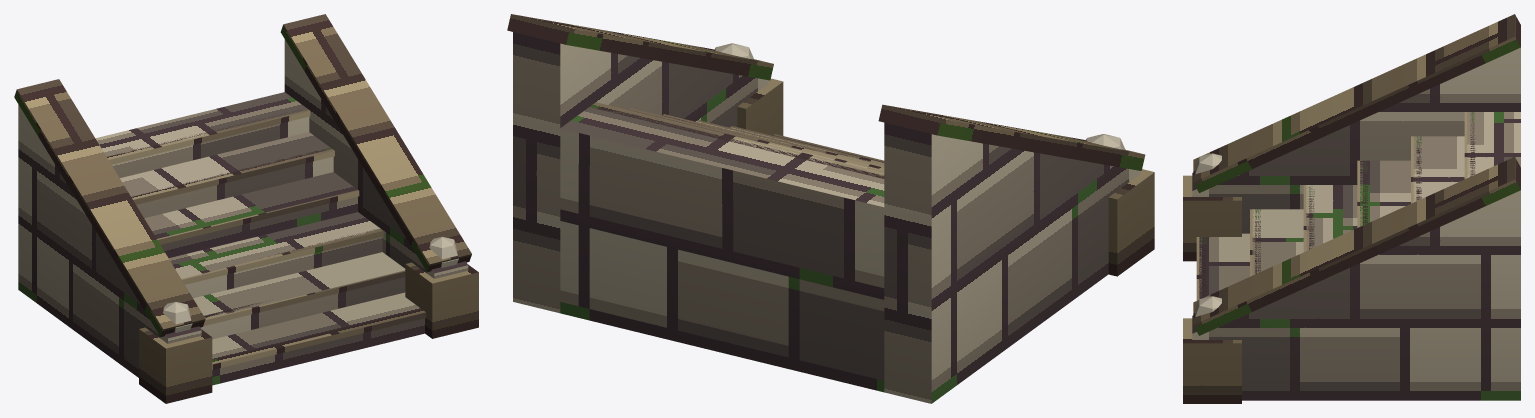
The model's file is scene_stair_f3.glb.
3 views of the same model, side by side, from view 1: azimuth 30°, elevation 25°; view 2: azimuth 150°, elevation 25°; view 3: azimuth 270°, elevation 25° (orthographic). The views are drawn at different scales.
Visible parts, largest first — view 1: scene_stair_f3; view 2: scene_stair_f3; view 3: scene_stair_f3.
Boxes of the visible parts, left/top/right/bottom form: scene_stair_f3: left=14, top=14, right=478, bottom=403; scene_stair_f3: left=507, top=14, right=1154, bottom=403; scene_stair_f3: left=1183, top=14, right=1520, bottom=403.
Size of the model in its own units: 2.96 by 1.84 by 2.52.
Materials: 2 (1 with a texture image).
